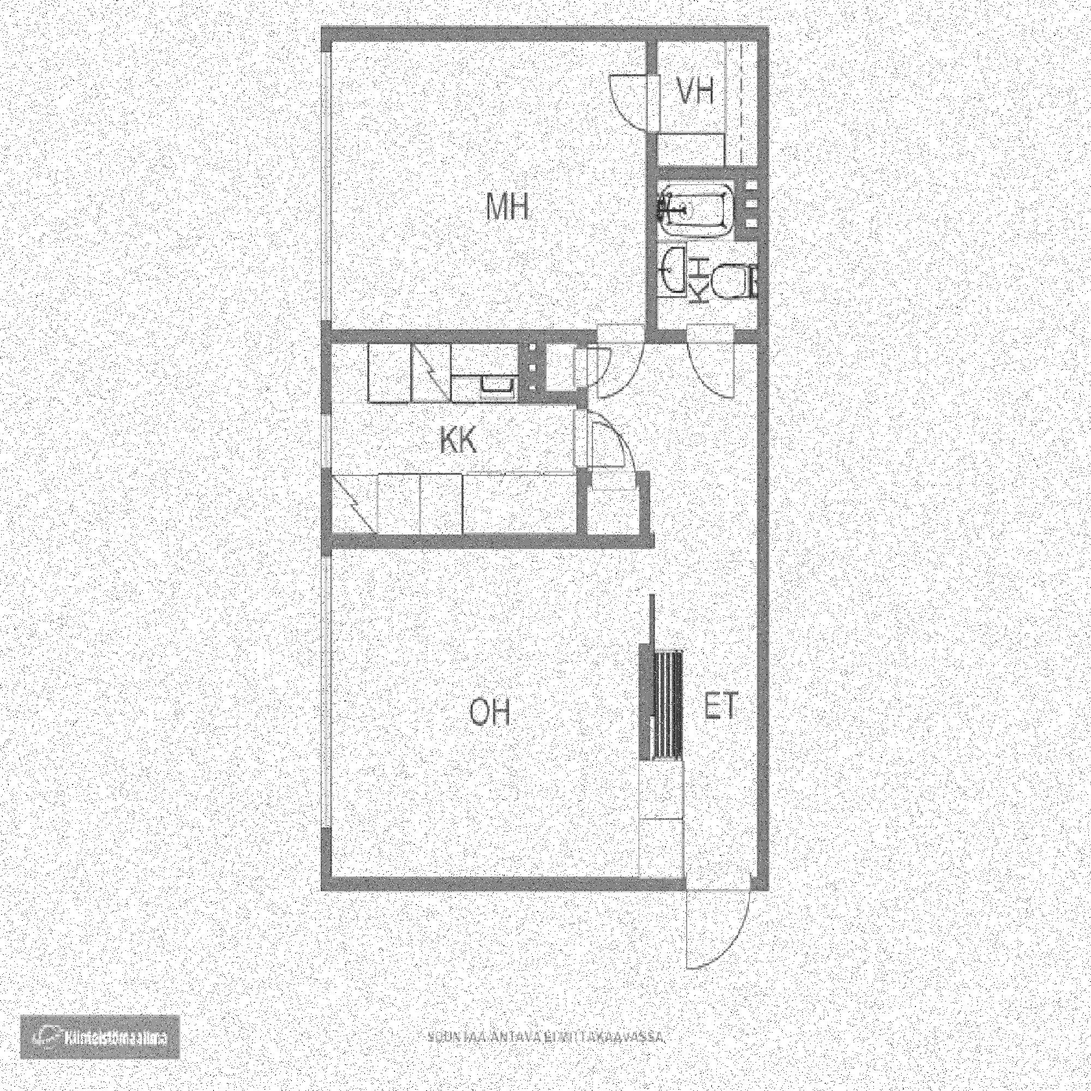wall: (321, 28, 331, 891), (759, 241, 769, 891), (321, 28, 769, 42), (321, 878, 769, 891), (321, 535, 655, 549), (647, 28, 657, 343), (546, 329, 769, 343), (321, 329, 519, 343), (735, 167, 769, 241), (577, 329, 587, 549), (647, 167, 769, 181), (519, 329, 546, 389), (759, 28, 769, 167), (640, 643, 650, 761), (577, 470, 650, 484), (519, 389, 587, 403), (640, 470, 650, 549), (519, 329, 529, 403)
